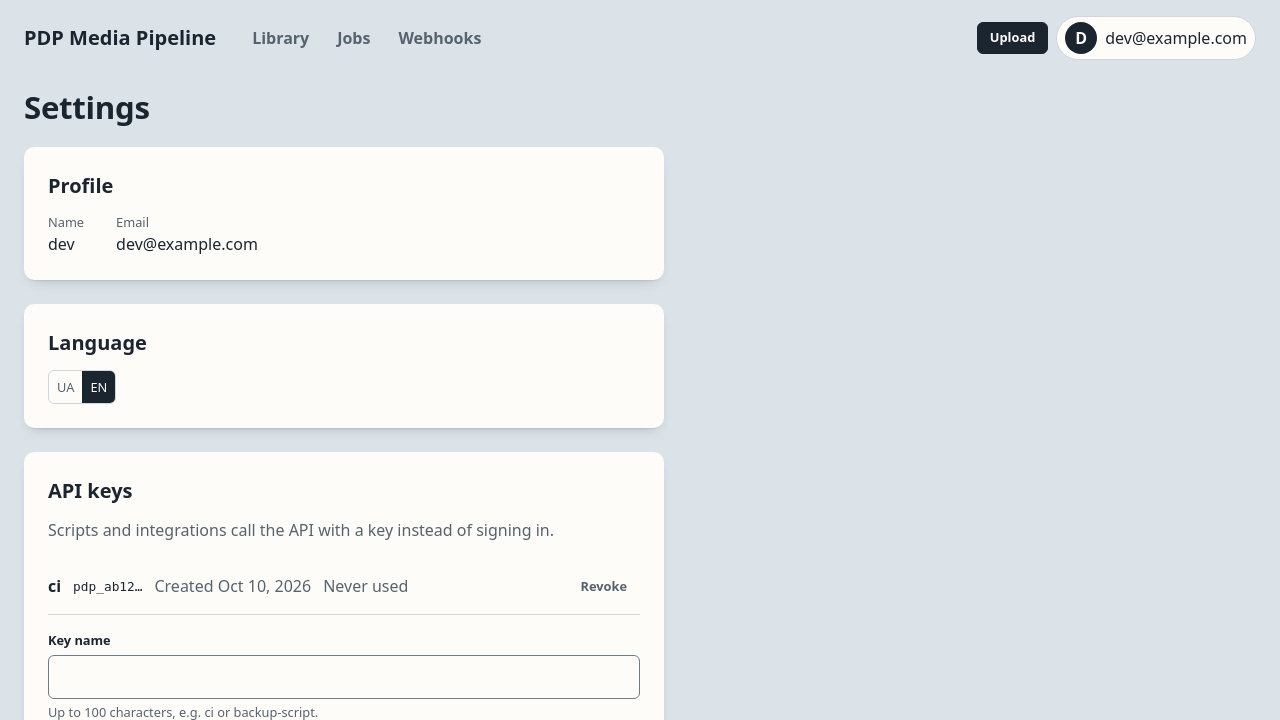
settings › says when the key could not be created and keeps the name
Type "deploy" into the field labelled "Key name".
click(344, 677); type("deploy")  # box [48, 655, 640, 699]
(page scrolled)
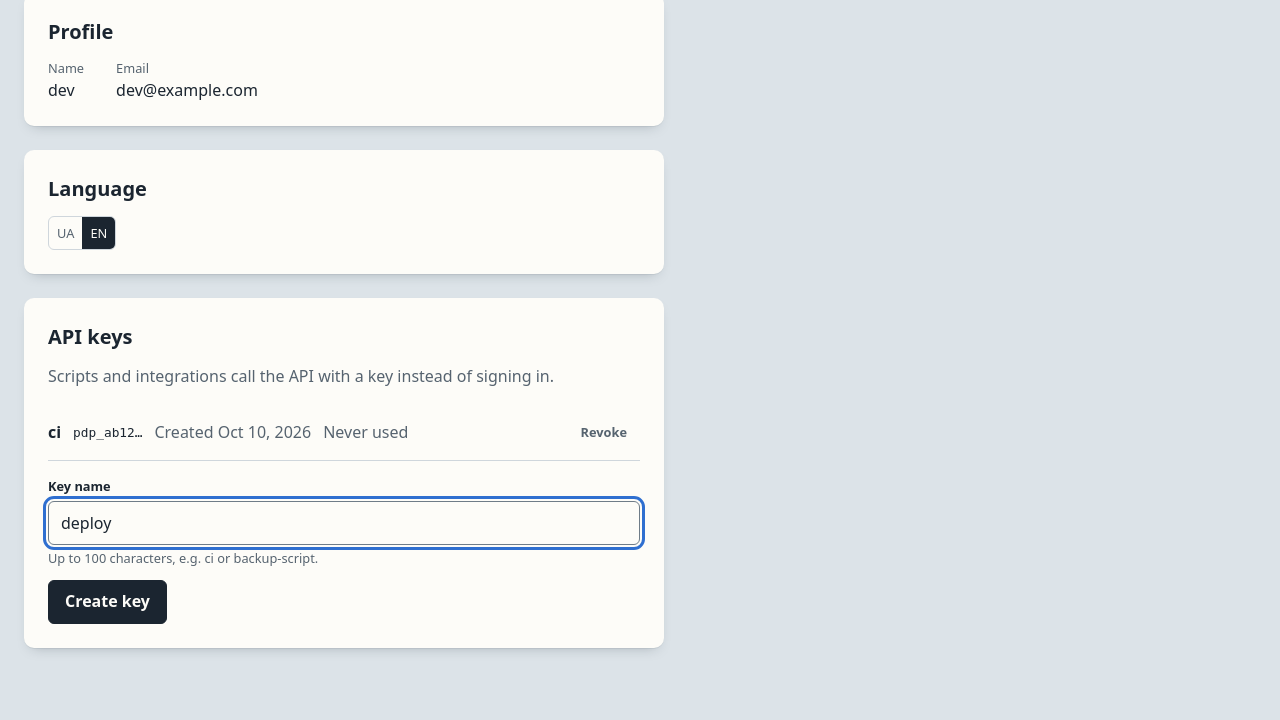
Click the button "Create key".
click(108, 602)  # box [48, 580, 167, 624]
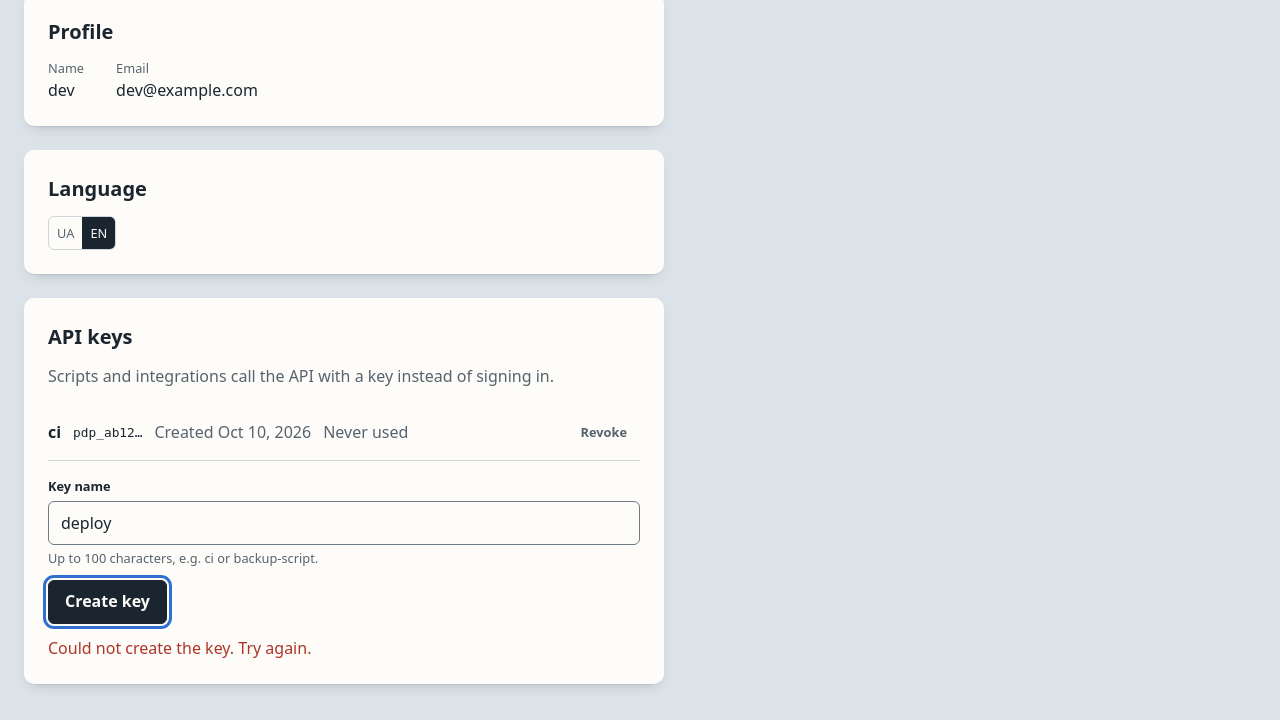
Now the text "Could not create the key. Try again." is shown, box [48, 636, 311, 660]
